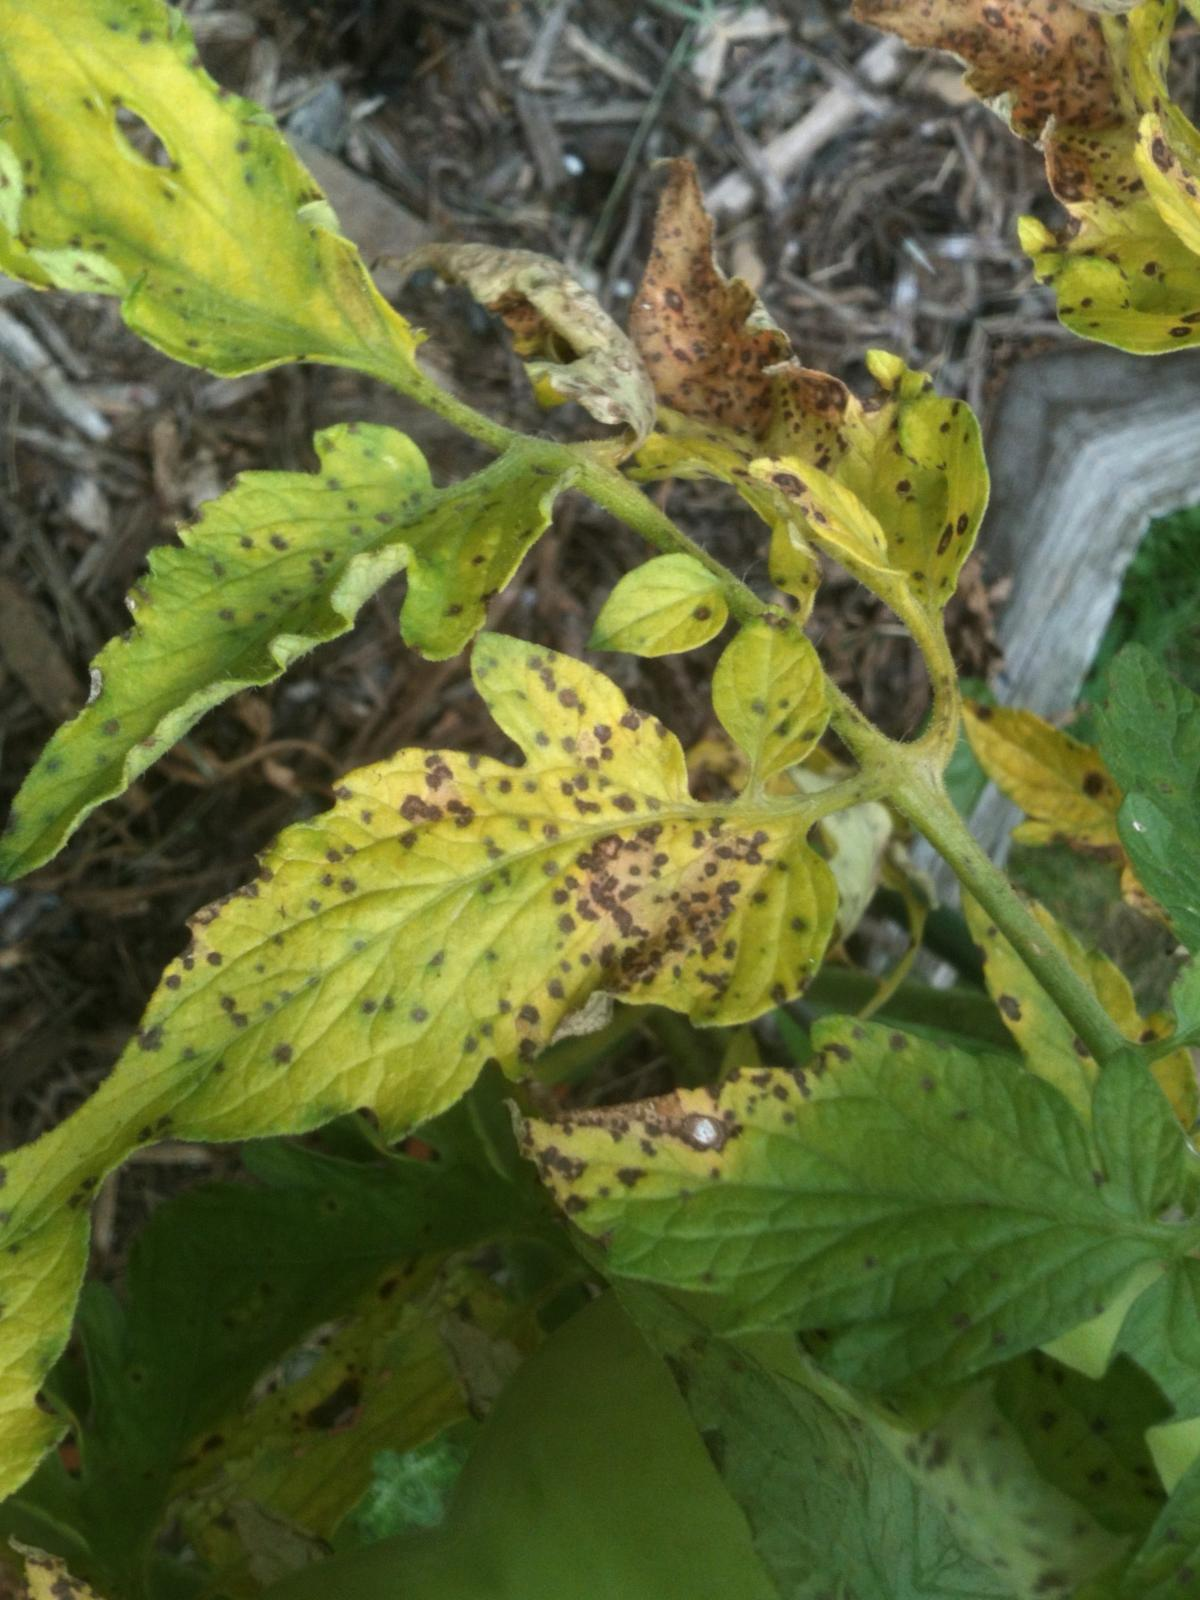Tomato Septoria leaf spot: (1, 528, 896, 1400), (509, 790, 1200, 1600), (0, 281, 664, 1009), (500, 29, 1137, 695), (10, 44, 484, 520)
